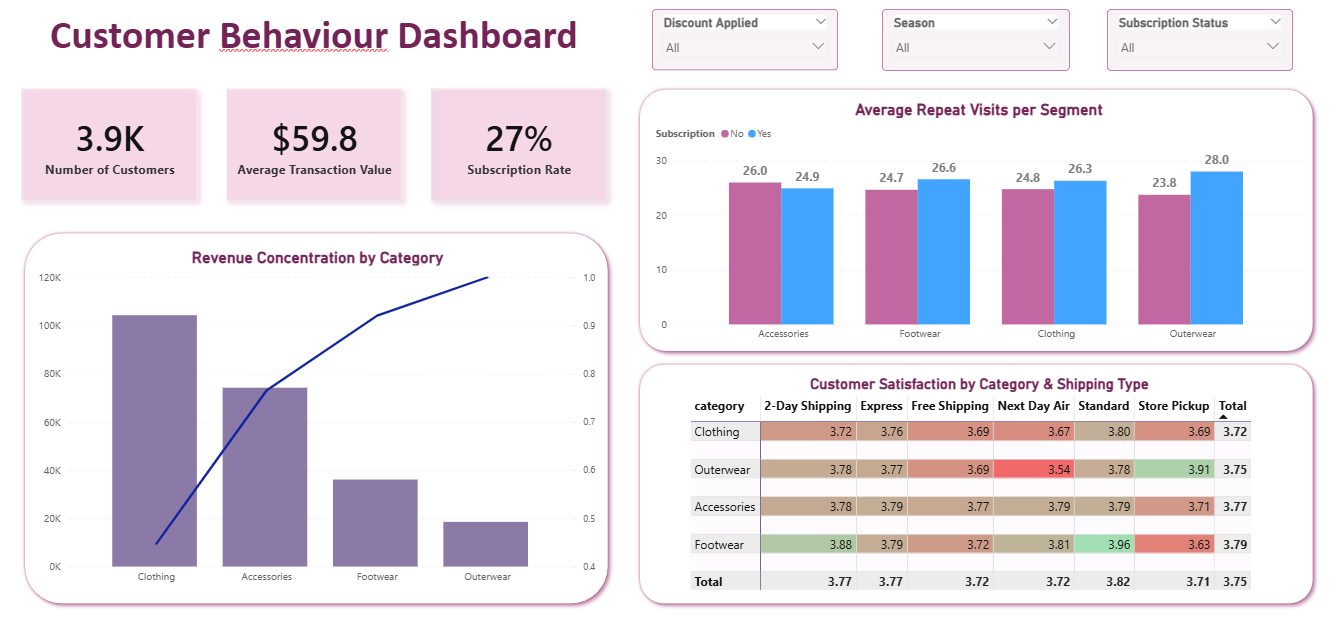

The dashboard page shown, as its layout file describes it:
{"tool":"powerbi","page":{"name":"Page 1","canvas":[1800,850],"ordinal":0},"visuals":[{"type":"cardVisual","fields":{"Data":["public customer.number of customers","public customer.Average purchase amount","public customer.SubscriptionRate"]},"box":[0,87.1,847.1,215.7],"z":0},{"type":"textbox","box":[41.7,10,761.7,93.3],"z":1000},{"type":"shape","box":[111.7,391.7,433.3,240],"z":2000},{"type":"shape","box":[28.3,303.3,795,511.7],"z":3000},{"type":"lineClusteredColumnComboChart","title":"Revenue Concentration by Category","fields":{"Category":["public customer.category"],"Y":["Sum(public customer.purchase_amount)"],"Y2":["public customer.CumulativePercentage"]},"box":[50,326.7,755,461.7],"z":4000},{"type":"slicer","fields":{"Values":["public customer.subscription_status"]},"box":[1480,14,248,82],"z":5000},{"type":"shape","box":[848.3,111.7,915,366.7],"z":6000},{"type":"slicer","fields":{"Values":["public customer.discount_applied"]},"box":[873.3,13.3,248.3,81.7],"z":7000},{"type":"shape","box":[848.3,478.3,915,336.7],"z":7500},{"type":"clusteredColumnChart","title":"Average Repeat Visits per Segment","fields":{"Category":["public customer.category"],"Series":["public customer.subscription_status"],"Y":["Avg(public customer.previous_purchases)"]},"box":[874,130,872,336],"z":8000},{"type":"slicer","fields":{"Values":["public customer.season"]},"box":[1180,14,250,82],"z":10000},{"type":"pivotTable","title":"Customer Satisfaction by Category & Shipping Type","fields":{"Rows":["public customer.category"],"Columns":["public customer.shipping_type"],"Values":["Avg(public customer.review_rating)"]},"box":[920,496,780,320],"z":10500}]}

Visuals, with their boxes in screenshot pixels (x1, y1, x2, y2), scaled from the page's 1800x850 canvas onto the 1342x630 screenshot:
cardVisual - public customer.number of customers x public customer.Average purchase amount: <bbox>0, 65, 632, 224</bbox>
textbox: <bbox>31, 7, 599, 77</bbox>
shape: <bbox>83, 290, 406, 468</bbox>
shape: <bbox>21, 225, 614, 604</bbox>
"Revenue Concentration by Category" lineClusteredColumnComboChart: <bbox>37, 242, 600, 584</bbox>
slicer - public customer.subscription_status: <bbox>1103, 10, 1288, 71</bbox>
shape: <bbox>632, 83, 1315, 355</bbox>
slicer - public customer.discount_applied: <bbox>651, 10, 836, 70</bbox>
shape: <bbox>632, 355, 1315, 604</bbox>
"Average Repeat Visits per Segment" clusteredColumnChart: <bbox>652, 96, 1302, 345</bbox>
slicer - public customer.season: <bbox>880, 10, 1066, 71</bbox>
"Customer Satisfaction by Category & Shipping Type" pivotTable: <bbox>686, 368, 1267, 605</bbox>
